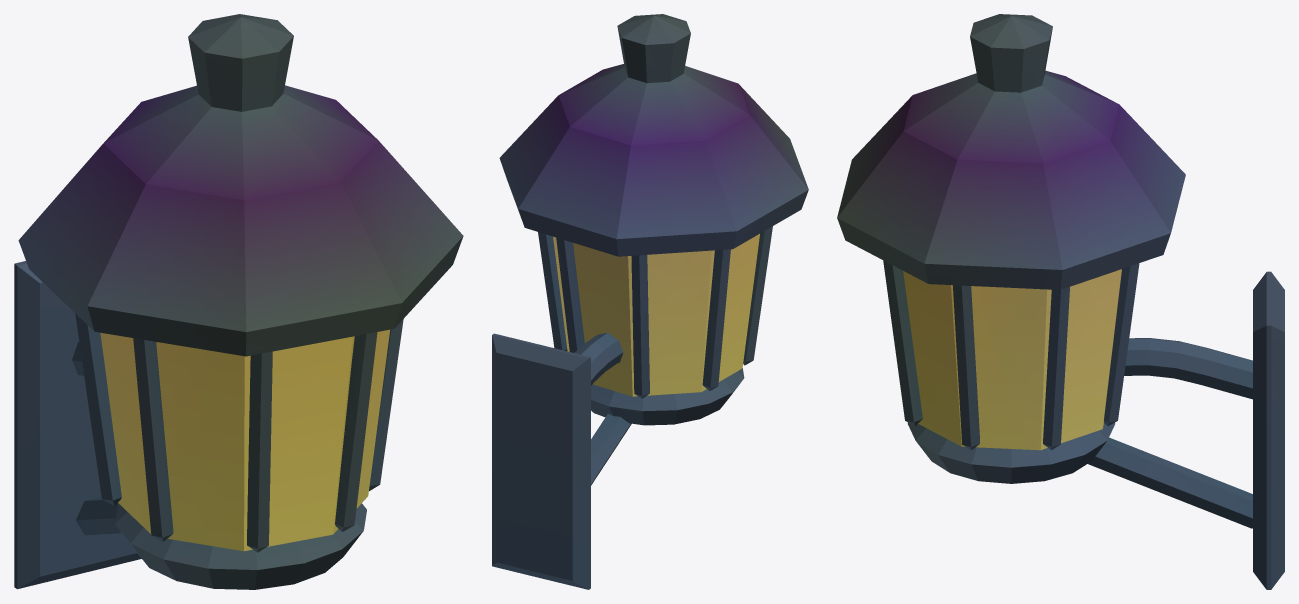
The model's file is Prop_WallLantern.glb.
The picture shows the model from 3 angles, left to right: view 1: azimuth 30°, elevation 25°; view 2: azimuth 150°, elevation 25°; view 3: azimuth 270°, elevation 25°; orthographic projection. The views are drawn at different scales.
Visible parts, largest first — view 1: Prop_WallLantern; view 2: Prop_WallLantern; view 3: Prop_WallLantern.
Boxes of the visible parts, x1,y1,x2,y2 form: Prop_WallLantern: [14, 14, 463, 589]; Prop_WallLantern: [492, 14, 808, 589]; Prop_WallLantern: [837, 14, 1284, 589].
Bounding box in the file's own units: 0.3829 × 0.6625 × 0.4914.
